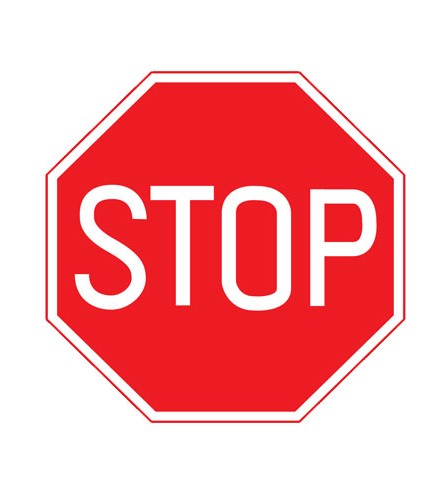Stop: (35, 64, 412, 426)
